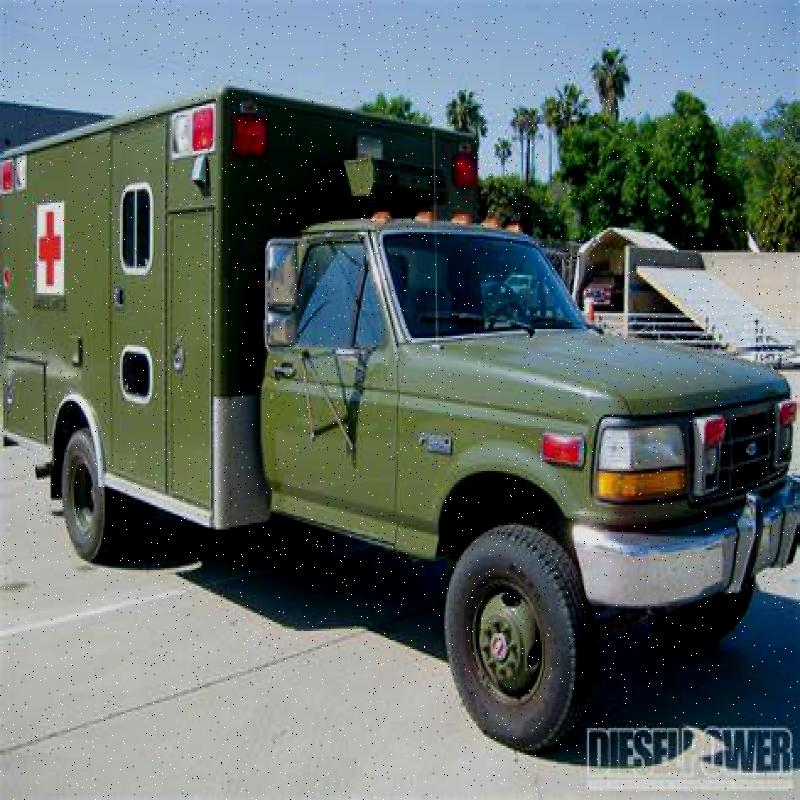AmbulanceSiren: (220, 101, 269, 177), (439, 139, 490, 206)
